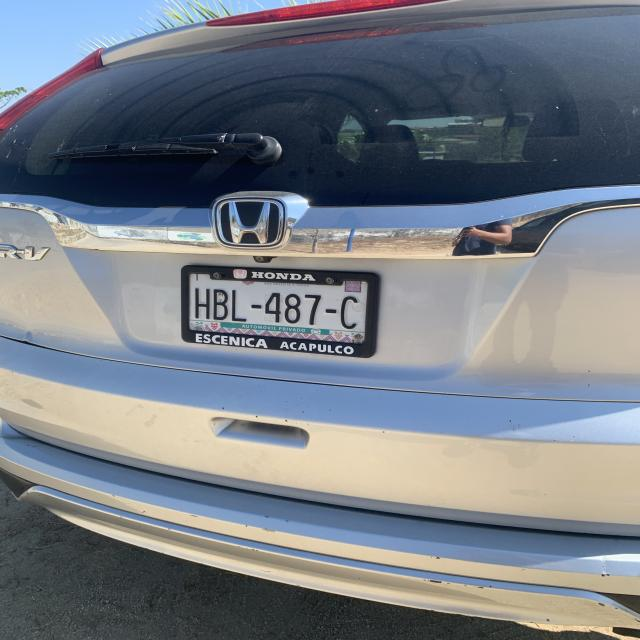placa: (184, 282, 367, 334)
